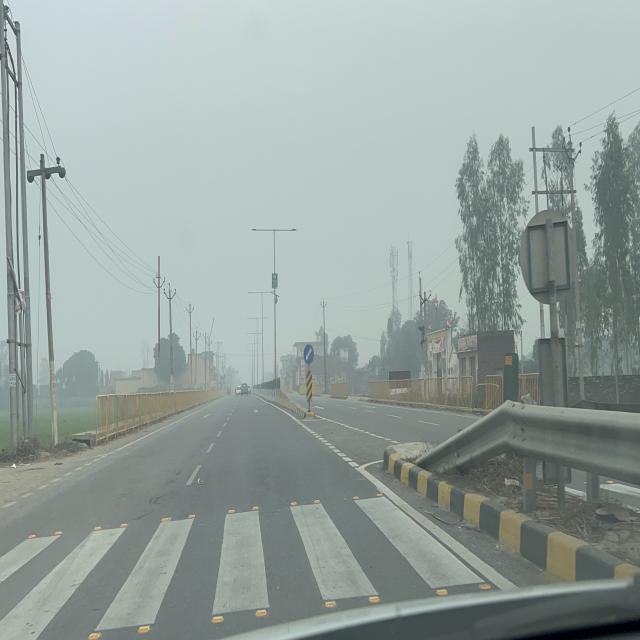KEEP_LEFT: (304, 344, 314, 366)
